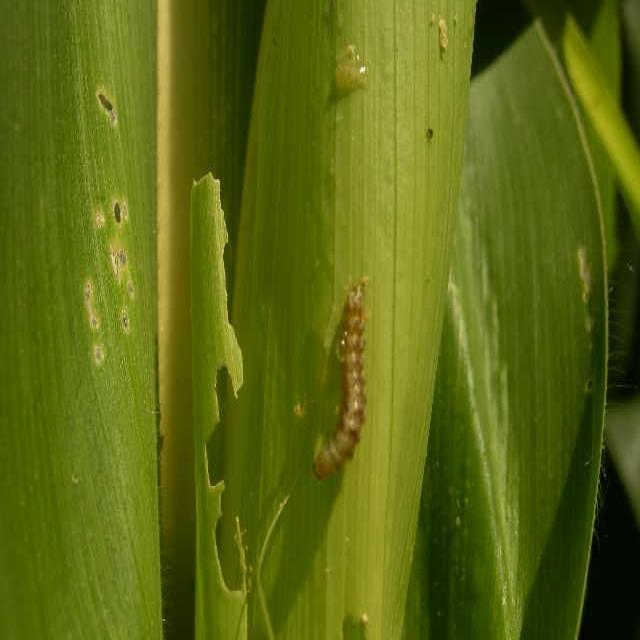pest: (319, 285, 369, 484)
